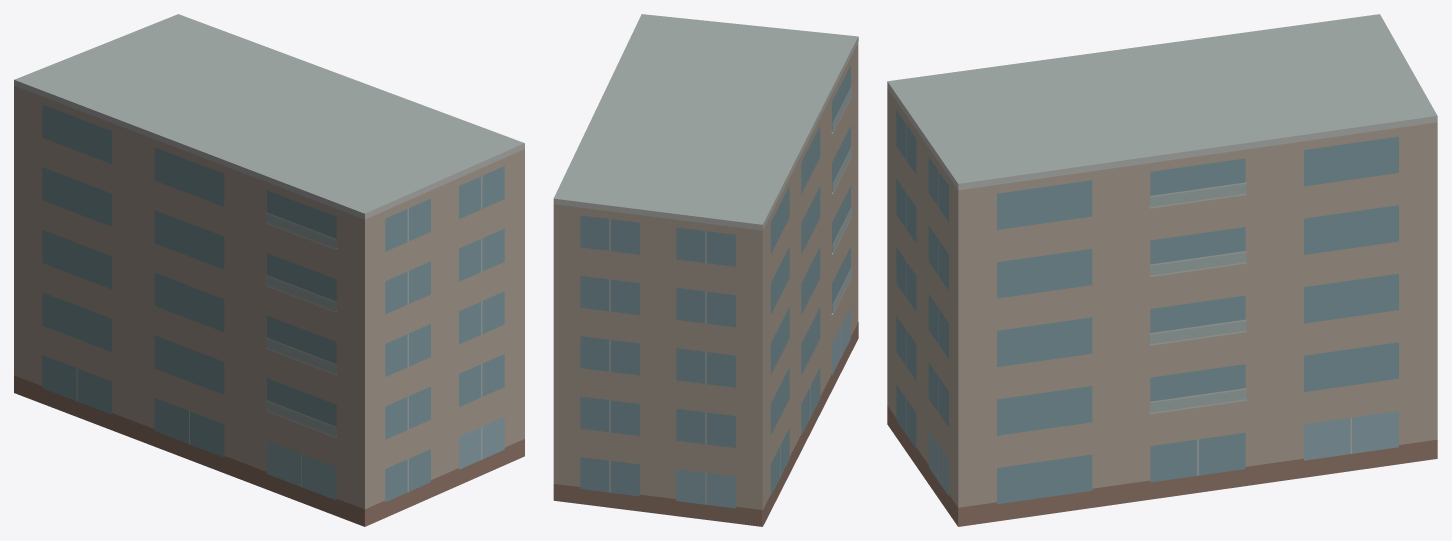
File: survey-upis-32612517.glb
3 views of the same model, side by side, from view 1: azimuth 30°, elevation 25°; view 2: azimuth 150°, elevation 25°; view 3: azimuth 270°, elevation 25° (orthographic). The views are drawn at different scales.
Parts seen in each view (by area): view 1: survey-upis-32612517.tmp; view 2: survey-upis-32612517.tmp; view 3: survey-upis-32612517.tmp.
Boxes of the visible parts, x1,y1,x2,y2 form: survey-upis-32612517.tmp: (14,14,524,526); survey-upis-32612517.tmp: (553,14,858,526); survey-upis-32612517.tmp: (887,14,1437,526).
Size of the model in its own units: 13.83 by 13 by 18.92.
